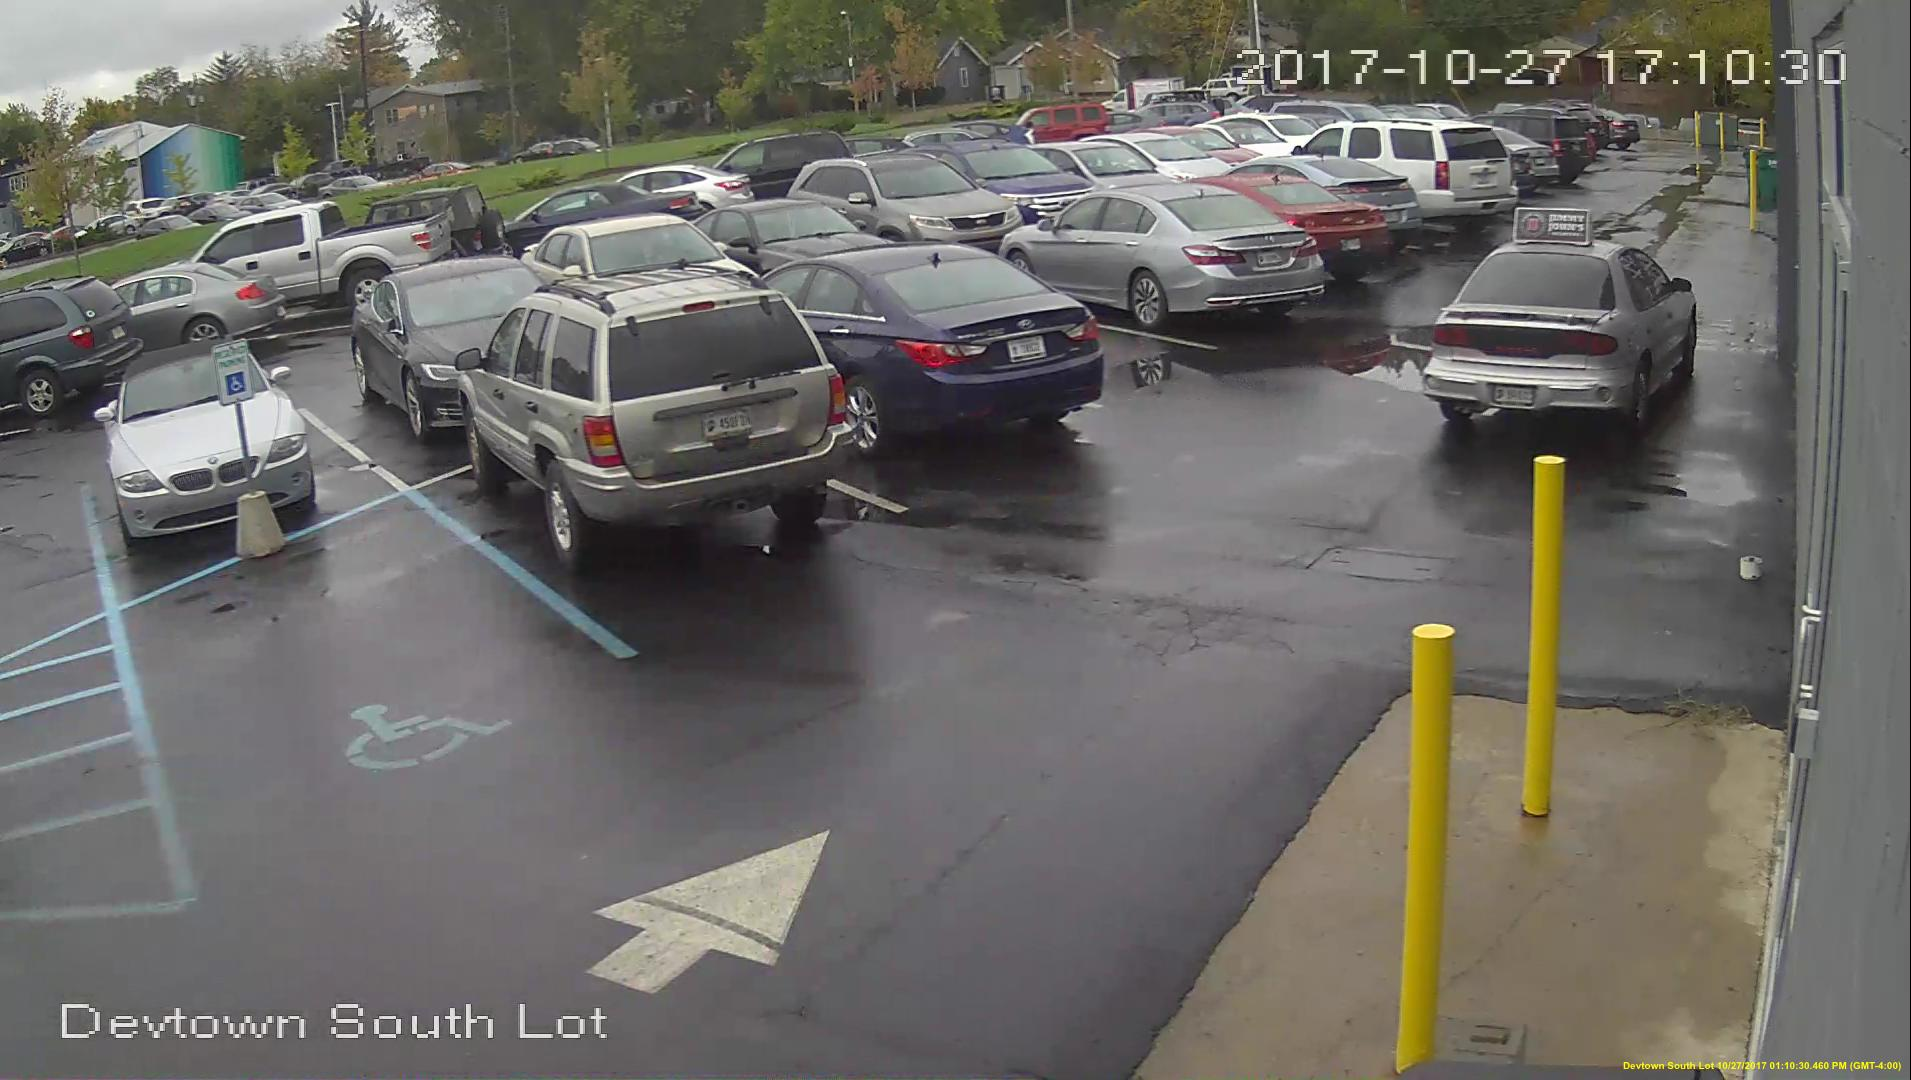jimmy_johns: (1508, 202, 1589, 245)
